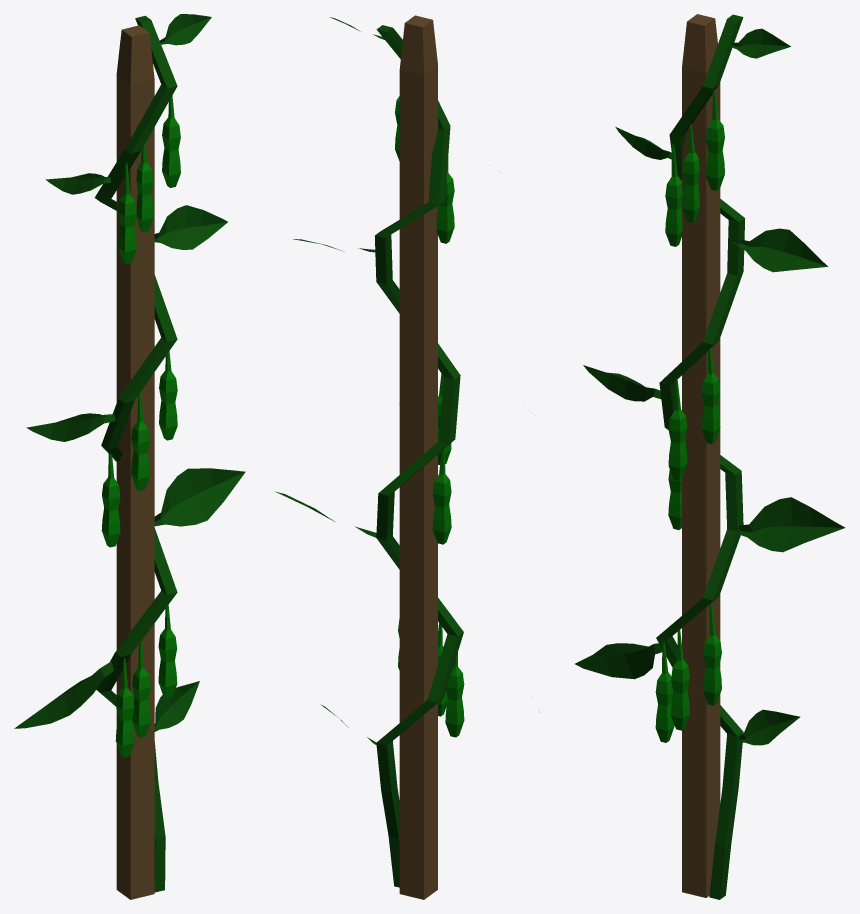
Rendered from beans.glb.
3 renders of one model, left to right at view 1: azimuth 30°, elevation 25°; view 2: azimuth 150°, elevation 25°; view 3: azimuth 330°, elevation 25°, orthographic.
Visible parts, largest first — view 1: beans; view 2: beans; view 3: beans.
Part boxes in pixels (x1=…): beans: x1=14, y1=14, x2=245, y2=899; beans: x1=275, y1=15, x2=464, y2=899; beans: x1=575, y1=14, x2=845, y2=899.
Bounding box in the file's own units: 0.7066 × 2.32 × 0.1859.
1 material, 1 textured.
